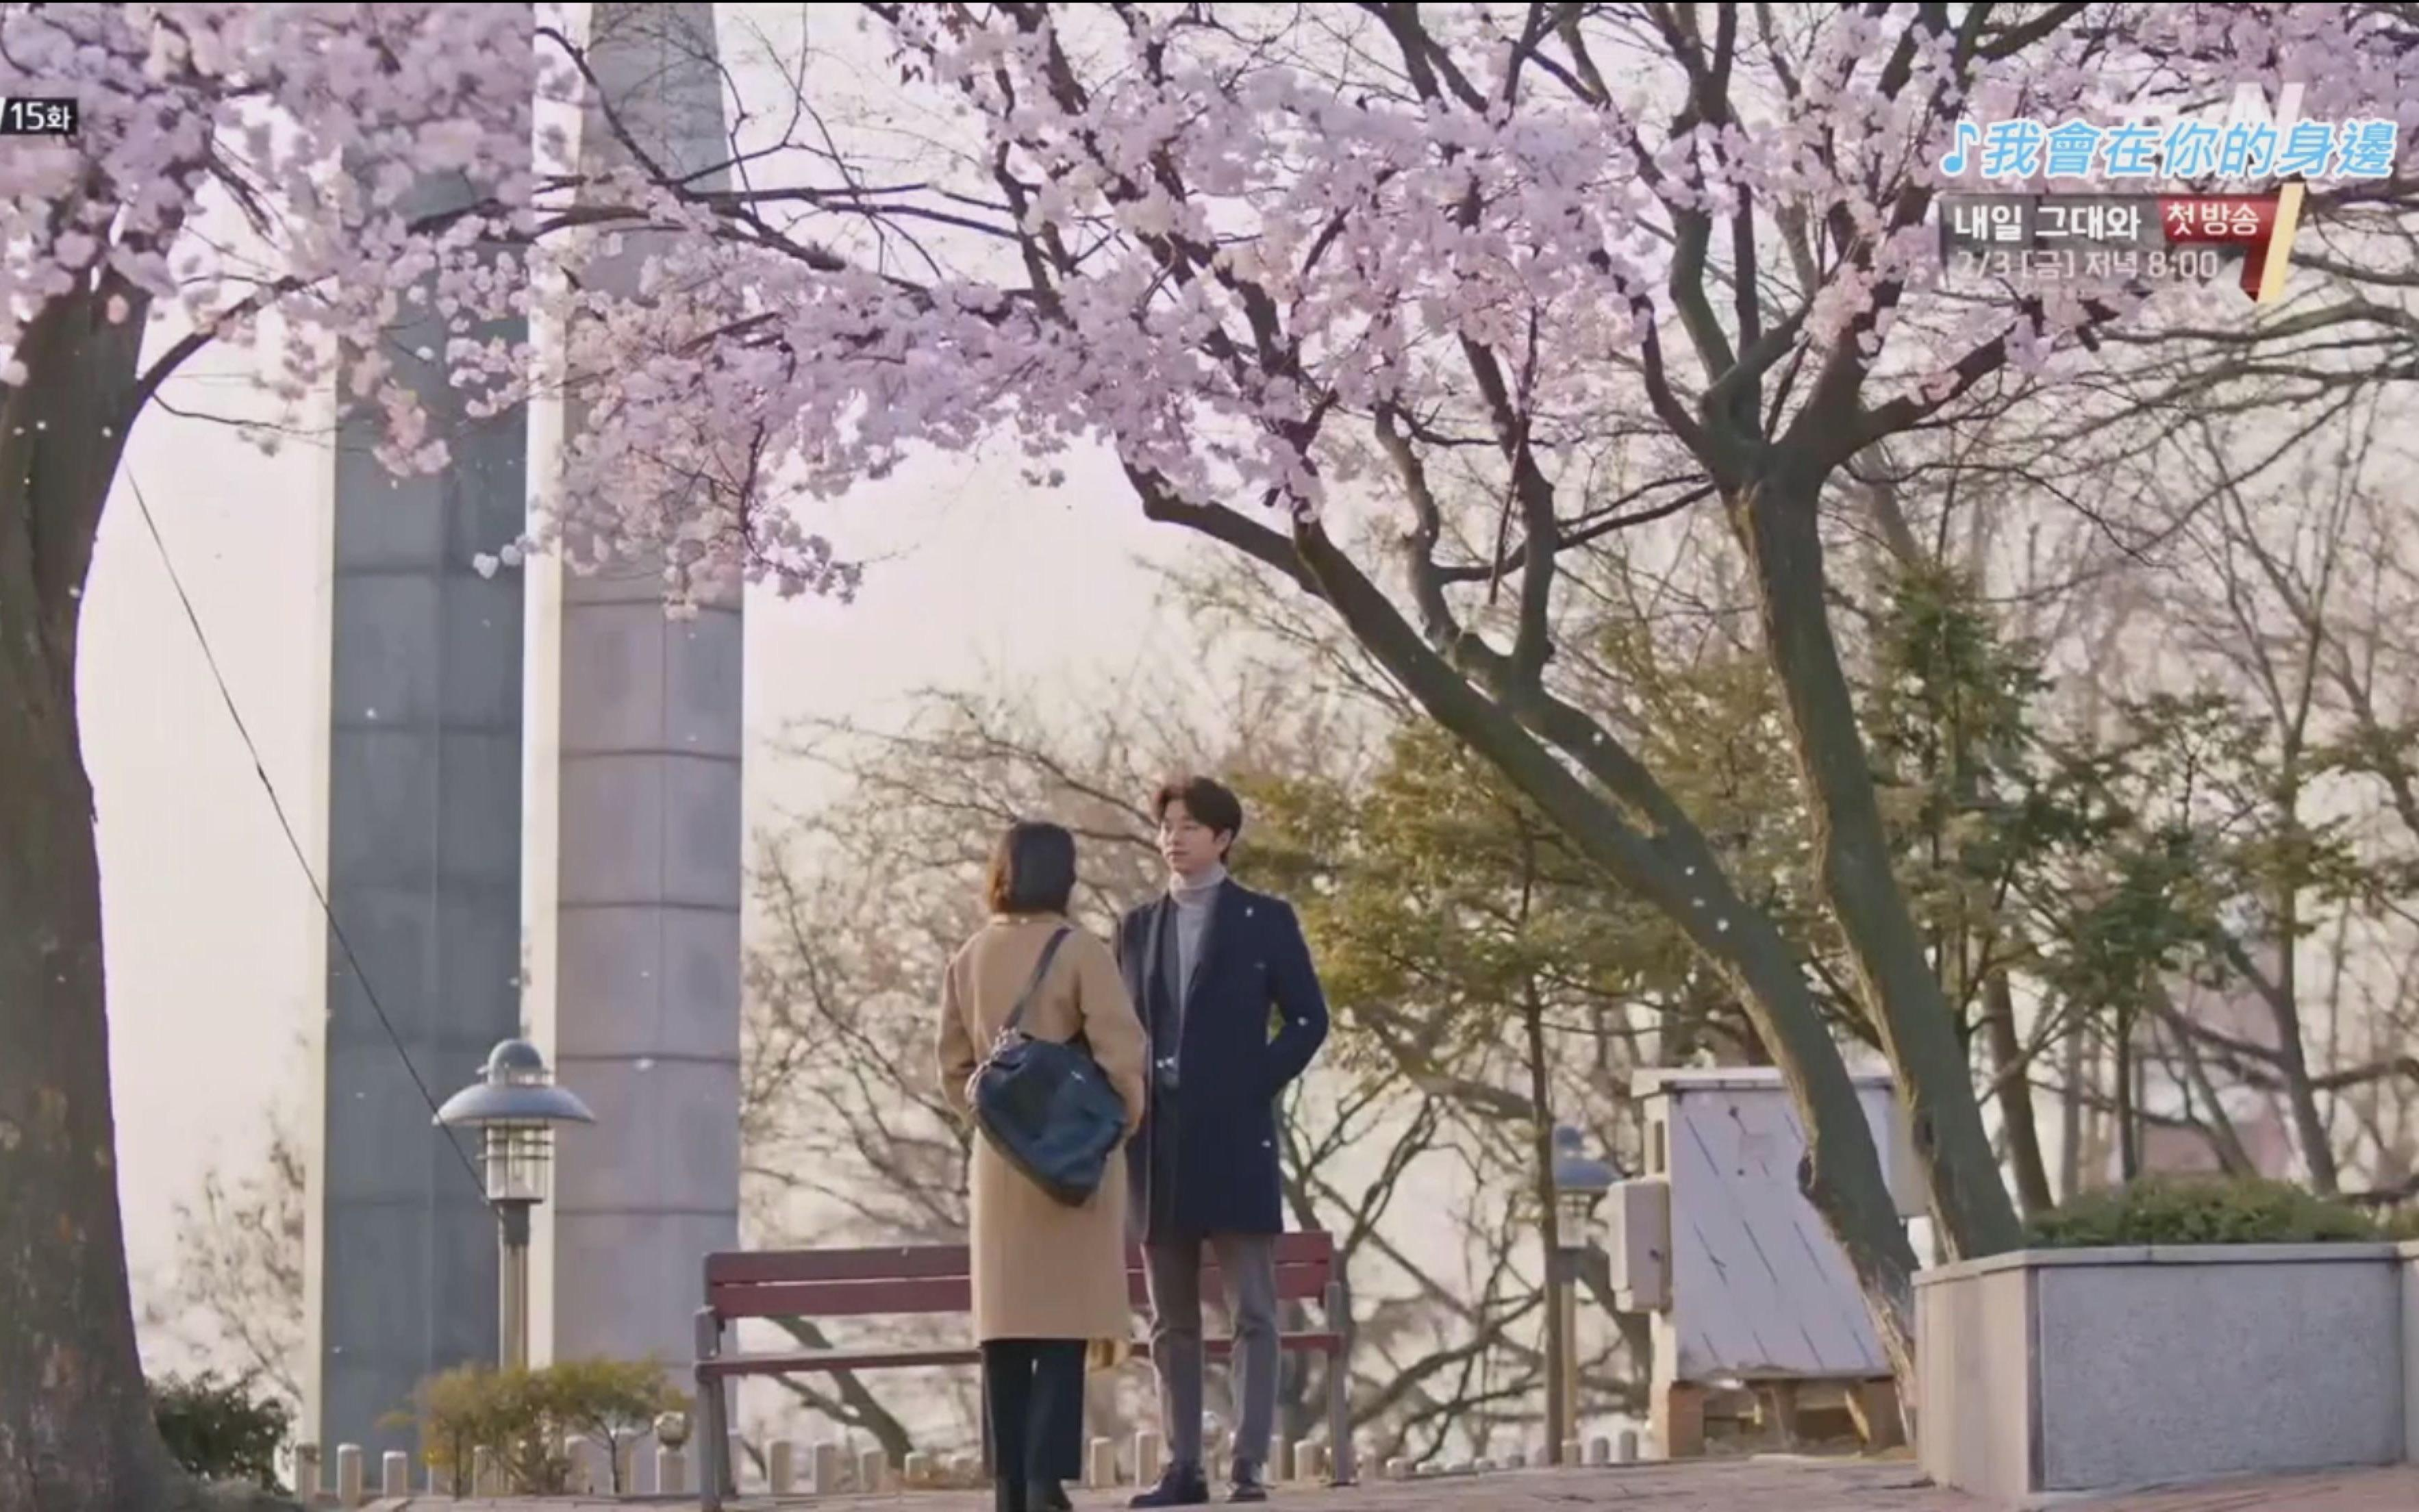up: (1101, 772, 1331, 1512), (925, 810, 1155, 1512)
